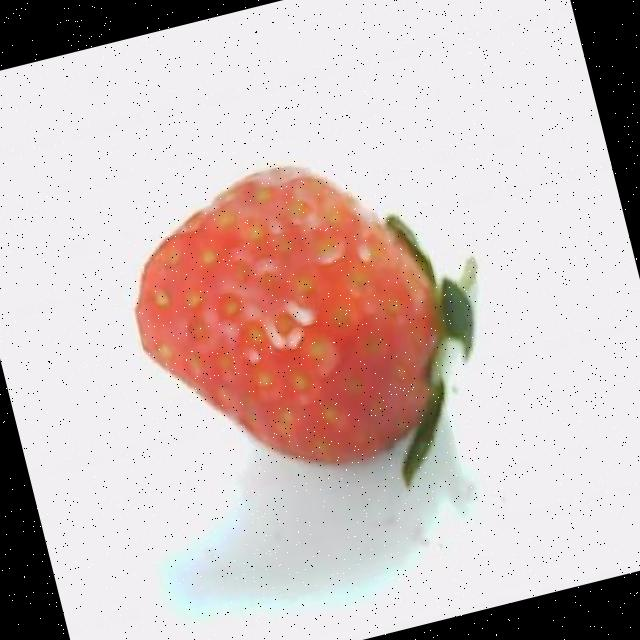strawberry: (136, 166, 475, 485)
